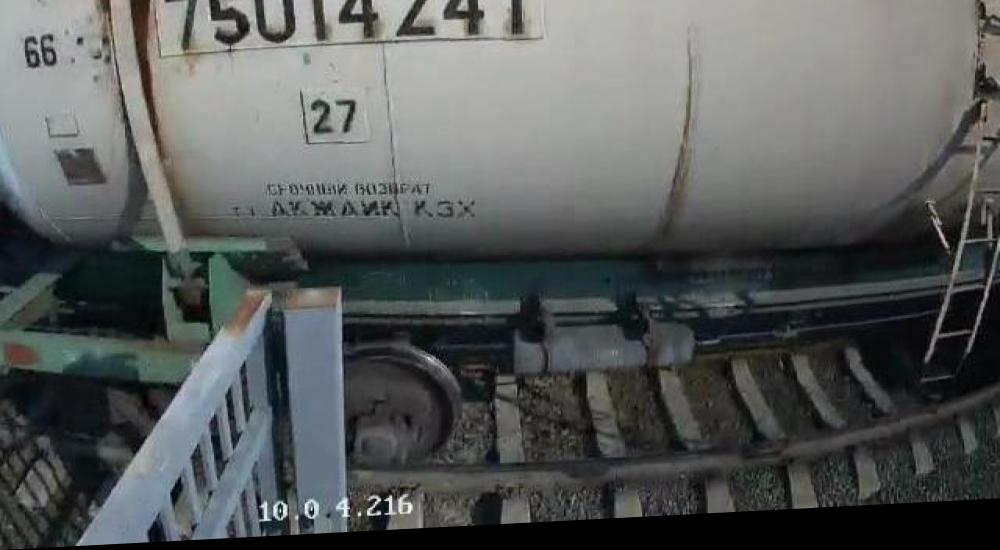Wagon-number: (158, 0, 532, 57)
